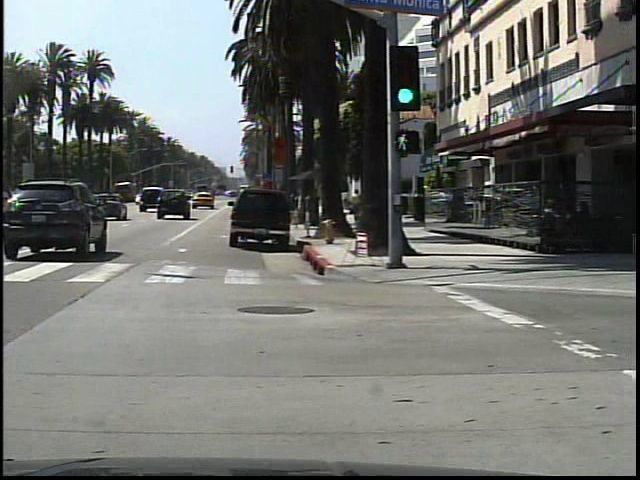person: (352, 184, 365, 225)
